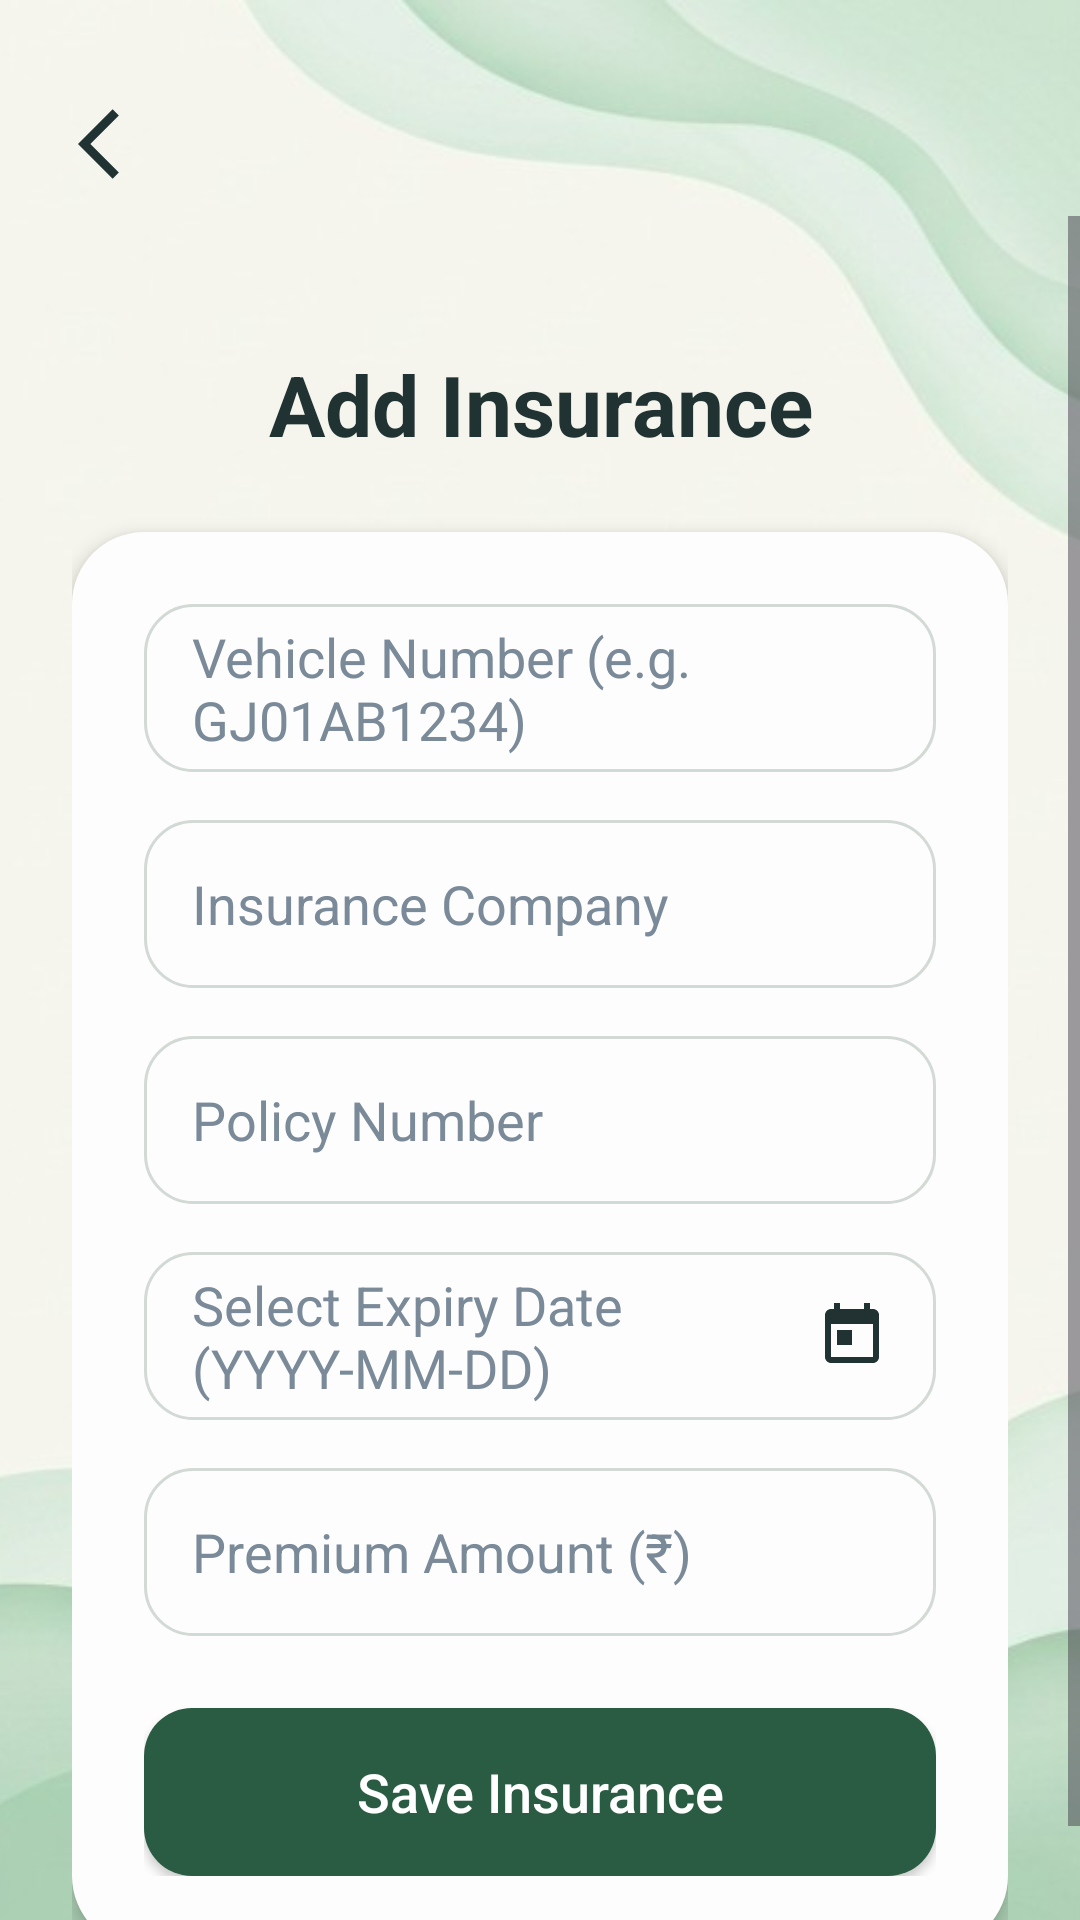

Named icons in this screenshot (1080 × 1920) and their bounding boxes, box=[x1, y1, x2, y2]:
Back: box=[78, 109, 119, 179]
